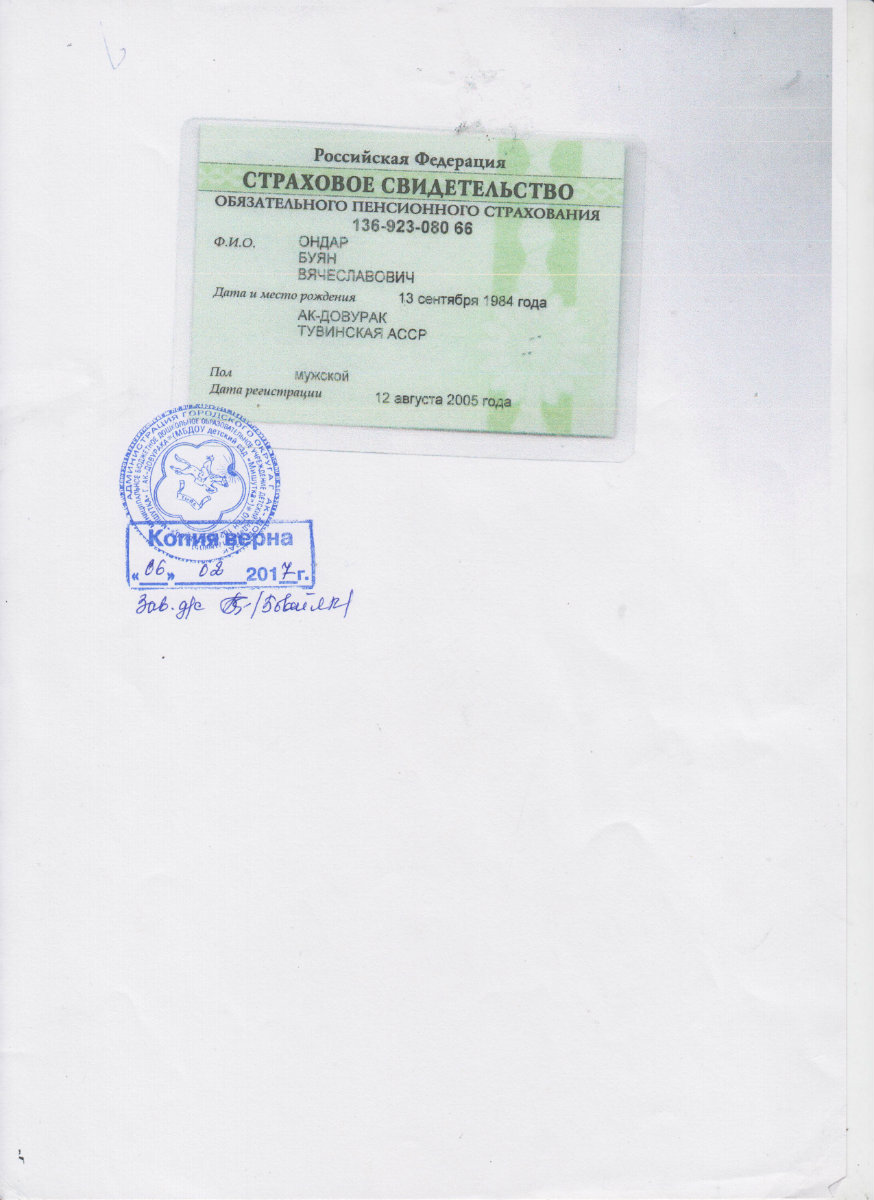text: (296, 306, 431, 342), (398, 289, 552, 313), (348, 215, 475, 239), (292, 264, 417, 287), (373, 390, 514, 410), (296, 233, 350, 252), (292, 368, 351, 384), (296, 248, 340, 268)
